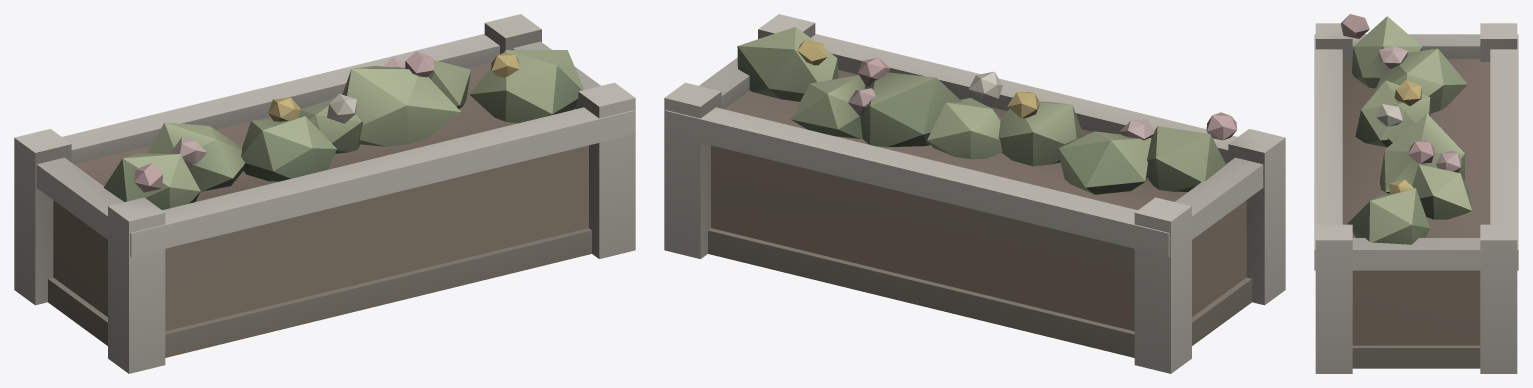
Rendered from planter.lod1.glb.
3 views of the same model, side by side, from view 1: azimuth 30°, elevation 25°; view 2: azimuth 150°, elevation 25°; view 3: azimuth 270°, elevation 25° (orthographic). The views are drawn at different scales.
Size of the model in its own units: 1.81 by 0.6454 by 0.72.
